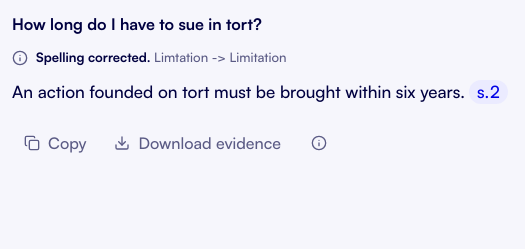
Test: Turn answer rendering › keeps non-fallback notices inline and hides provider_fallback and meta lines behind Details
The width and height of the screenshot is (525, 249).
Expected: the list named "Notices" reads "Spelling corrected. Limtation -> Limitation", [12, 49, 286, 66]
Expected: the list named "Notices" does not show "Backup model used", [12, 49, 286, 66]
Click the button named "Details" at (319, 143), box [297, 121, 341, 165]
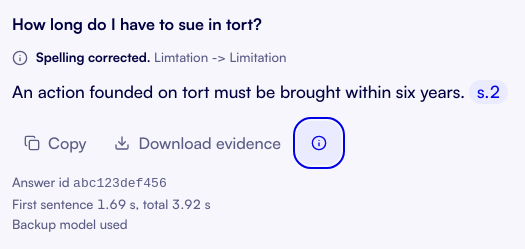
Now the button named "Details" is expanded
Now the text "Answer id abc123def456" is shown, box [12, 174, 167, 191]
Now the text "First sentence 1.69 s, total 3.92 s" is shown, box [12, 196, 211, 212]
Click the button named "Details" at (319, 143), box [297, 121, 341, 165]
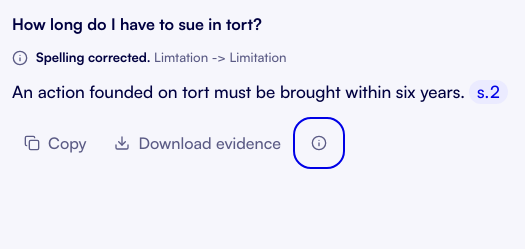
Now the button named "Details" is collapsed, box [297, 121, 341, 165]
Now the text "Backup model used" is gone
